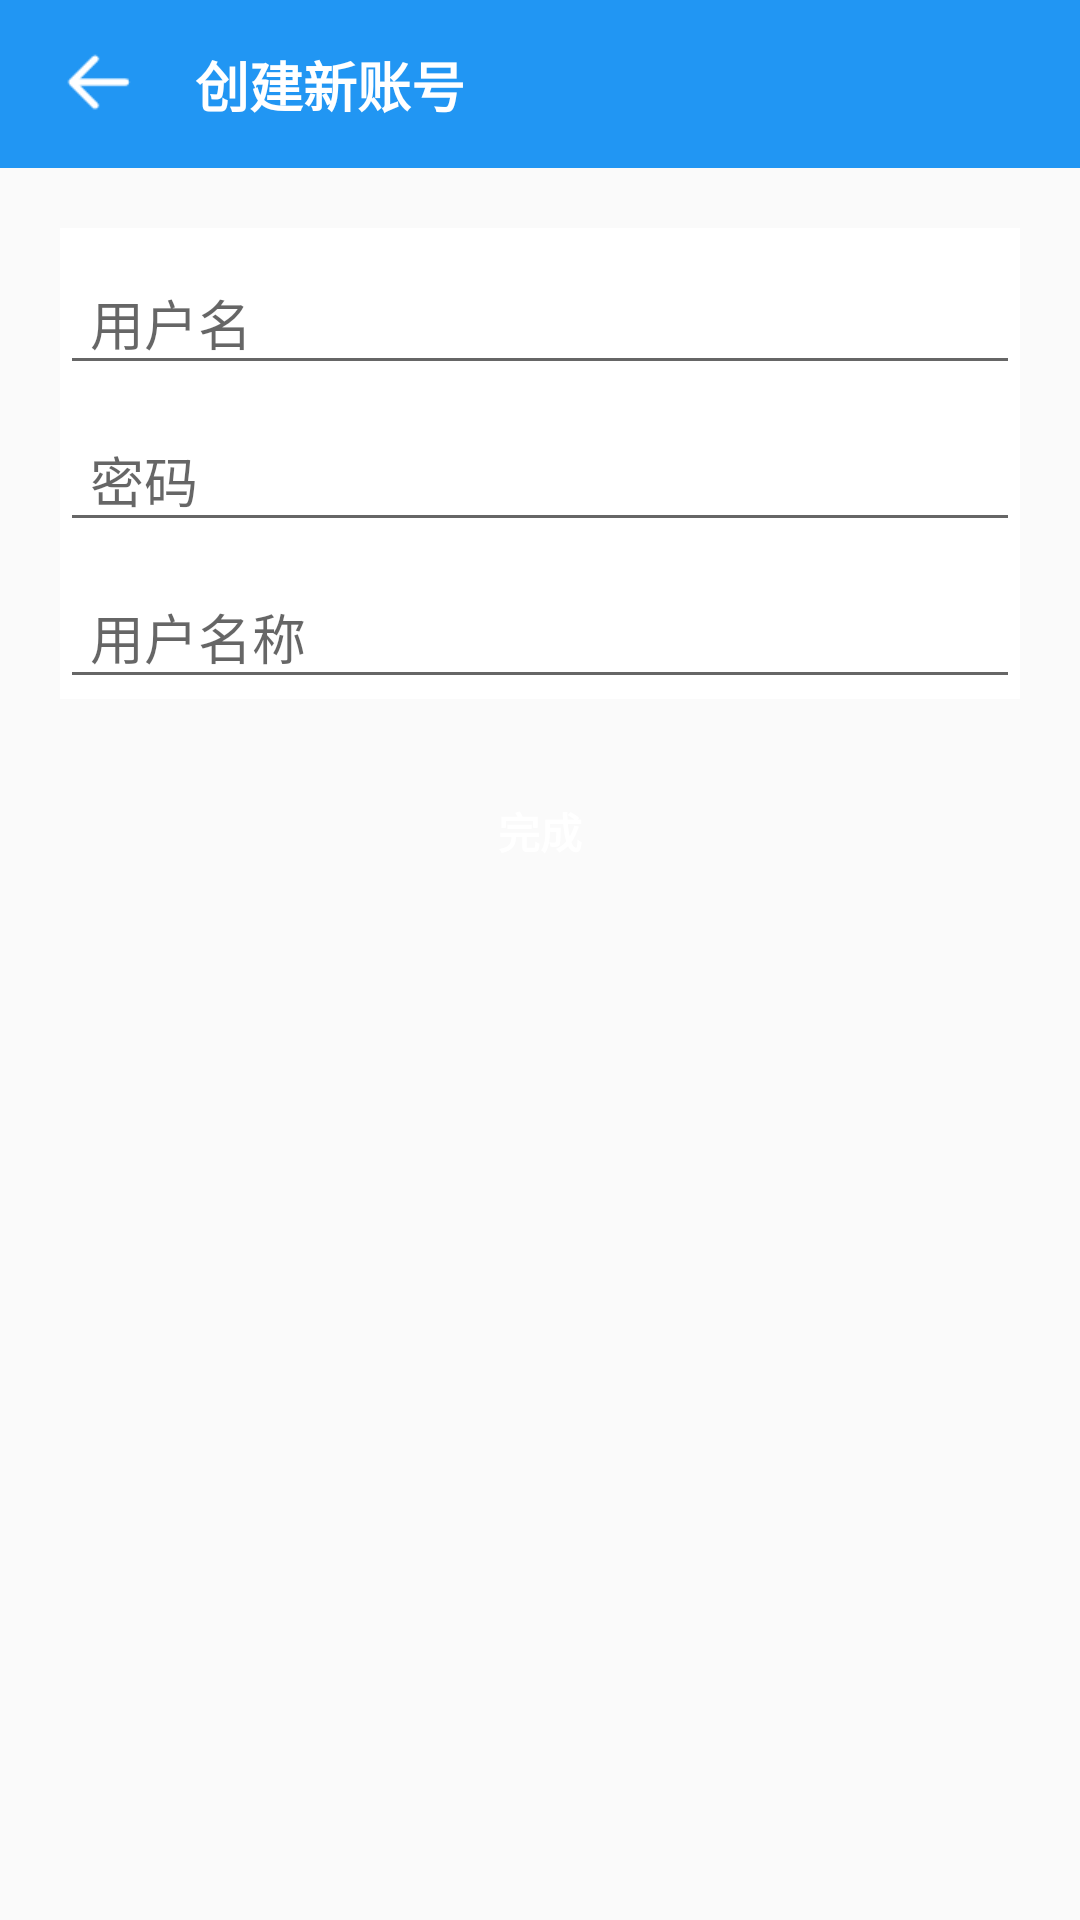

Screen size 1080px×1920px. Icon name, then its box in pixels as (x1=x1, y1=y1, x2=x2, y2=y2):
back: (x1=67, y1=54, x2=130, y2=110)
